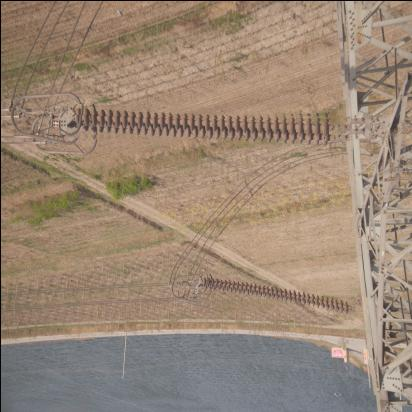insulator: (67, 108, 351, 150), (198, 278, 358, 317)
